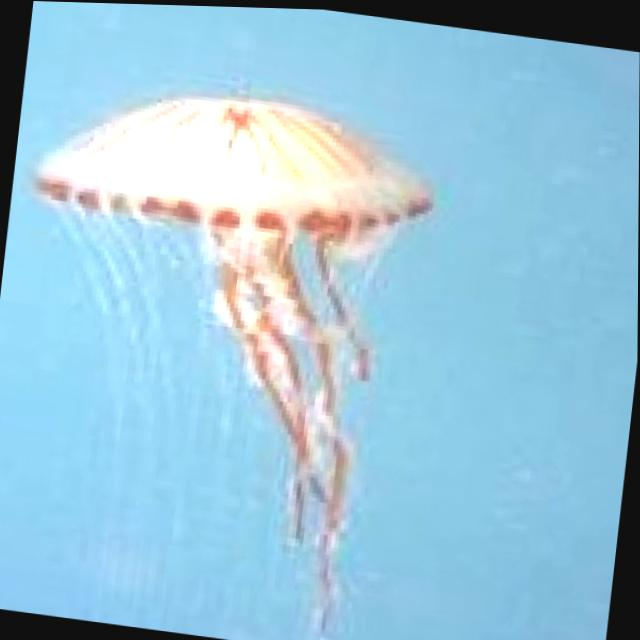Box-jellyfish: (0, 53, 447, 640)
